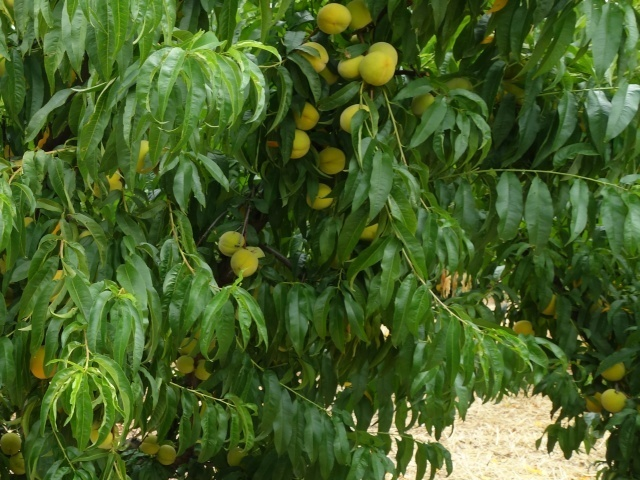peach: (23, 341, 62, 381), (312, 1, 355, 37), (357, 50, 397, 87), (296, 37, 332, 77), (87, 416, 122, 453), (129, 141, 163, 178), (89, 168, 127, 201), (228, 245, 260, 281), (335, 103, 372, 134), (334, 49, 368, 82), (304, 182, 338, 215), (291, 101, 324, 134), (315, 144, 348, 177), (285, 126, 313, 162), (214, 228, 246, 259), (598, 387, 630, 415), (595, 356, 627, 383), (580, 390, 610, 418), (407, 90, 437, 117), (508, 316, 537, 343), (151, 443, 181, 469), (4, 448, 31, 476), (134, 431, 164, 456), (172, 351, 198, 378), (191, 357, 218, 383), (223, 443, 250, 469), (177, 335, 204, 359), (1, 432, 23, 459), (539, 293, 560, 319)
